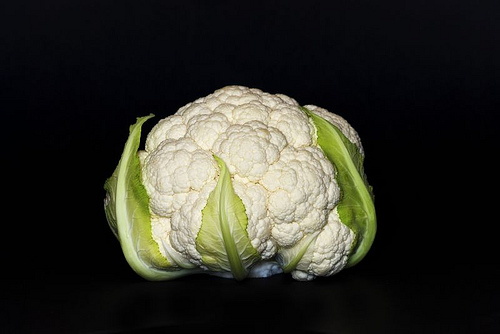cauliflower: (100, 80, 382, 285)
